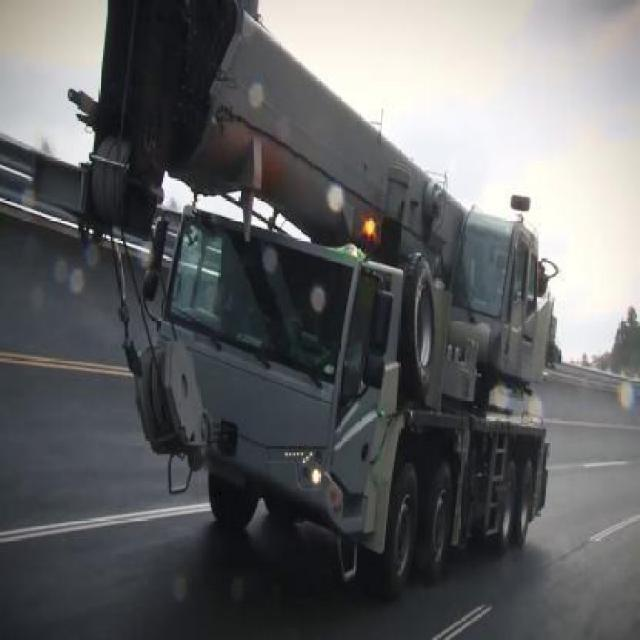Mobile Crane: (48, 2, 566, 598)
